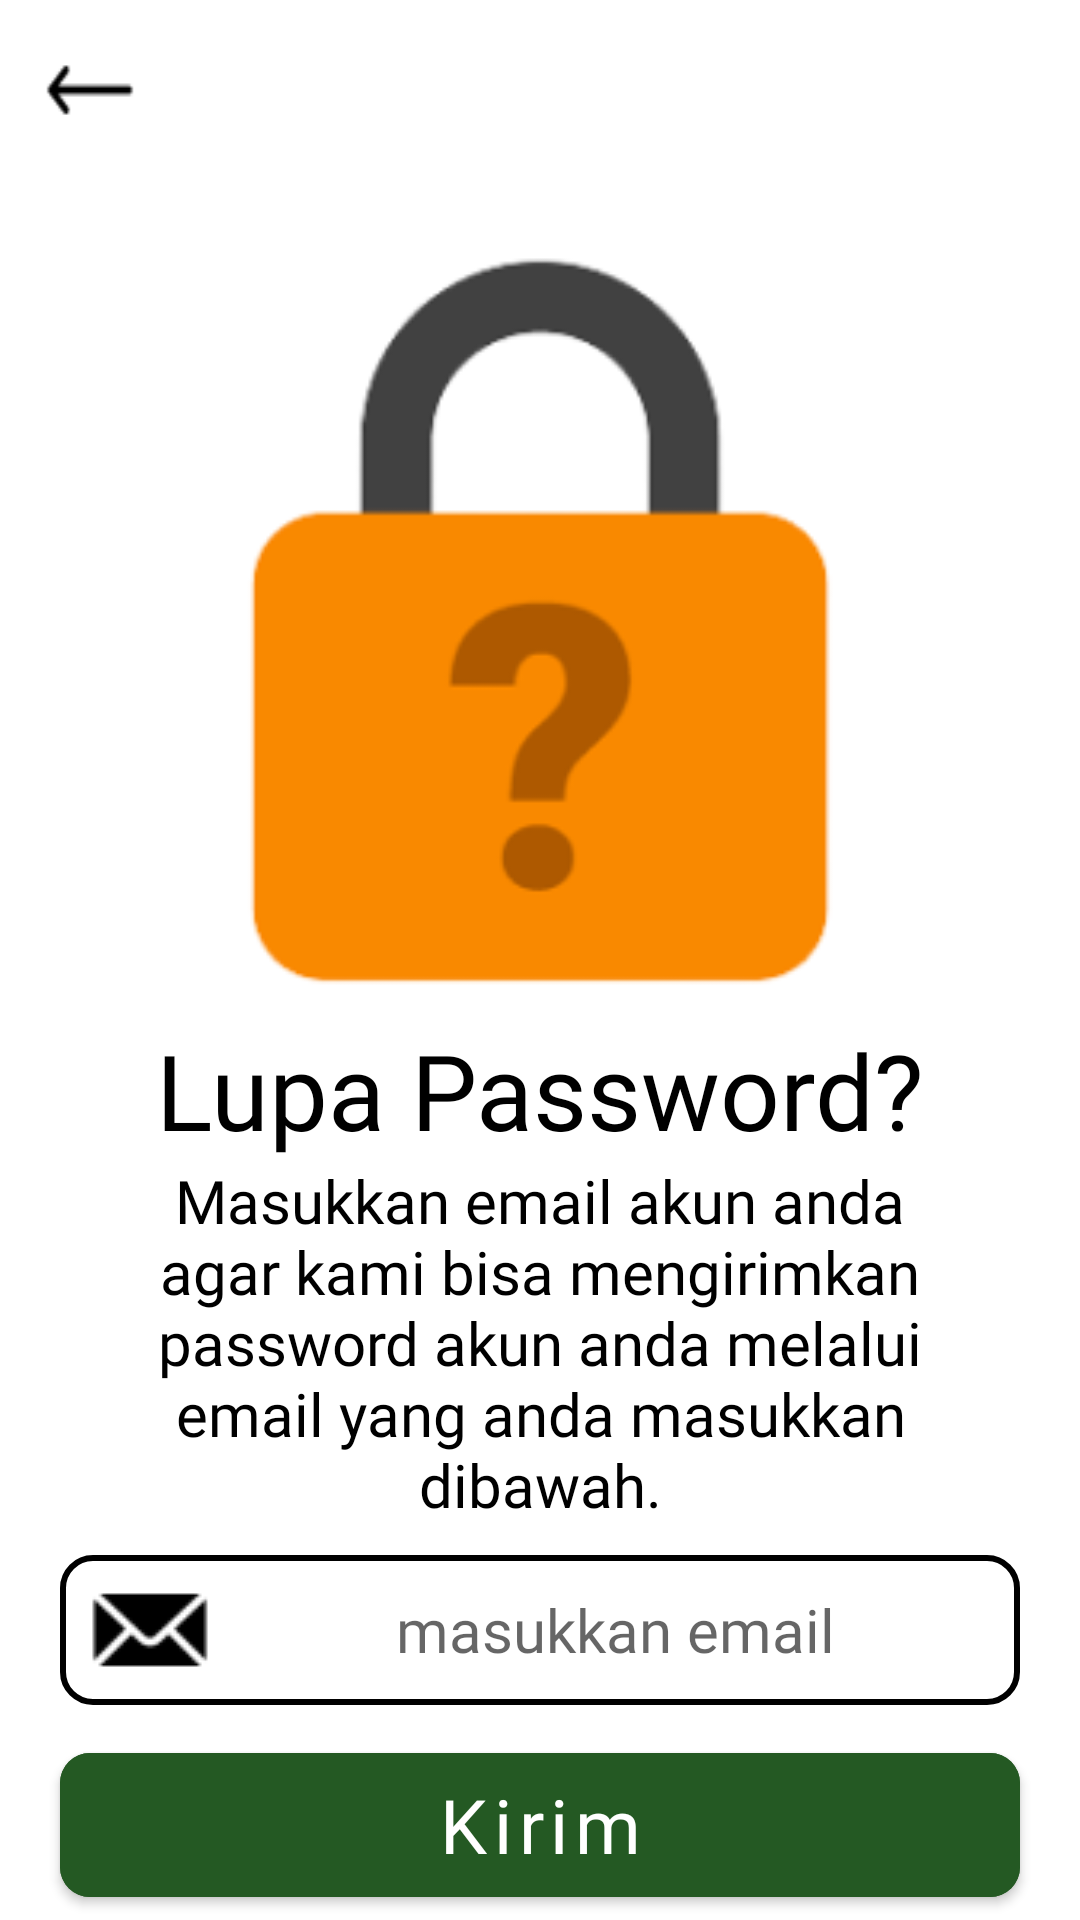

Screen size 1080px×1920px. Icon name, then its center in pixels as (x=x, y=y):
arrow back: (x=90, y=90)
